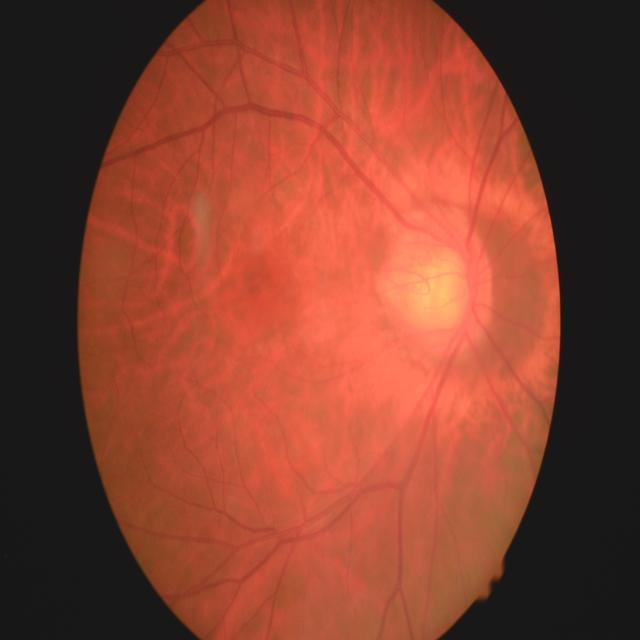cup: (424, 237, 478, 331)
disk: (408, 215, 492, 358)
